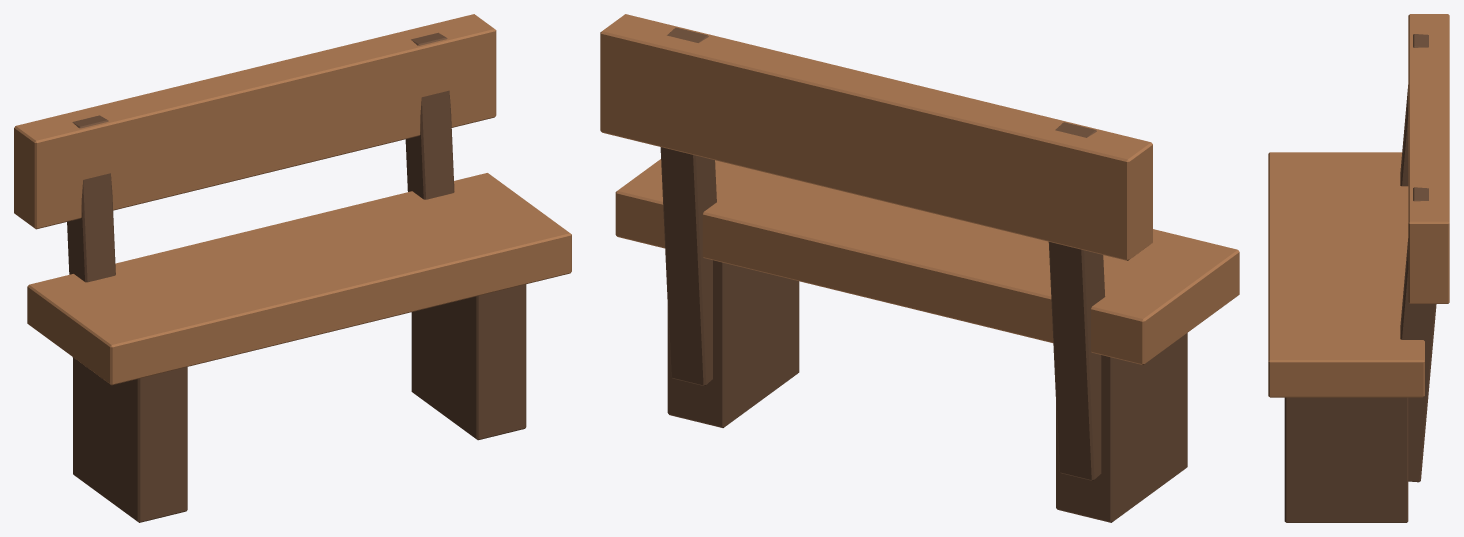
Rendered from wood_bench_backrest_01.glb.
3 views of the same model, side by side, from view 1: azimuth 30°, elevation 25°; view 2: azimuth 150°, elevation 25°; view 3: azimuth 270°, elevation 25° (orthographic). The views are drawn at different scales.
Visible parts, largest first — view 1: wood_bench_backrest_01; view 2: wood_bench_backrest_01; view 3: wood_bench_backrest_01.
Boxes of the visible parts, x1,y1,x2,y2 form: wood_bench_backrest_01: (14, 14, 571, 522); wood_bench_backrest_01: (600, 14, 1239, 522); wood_bench_backrest_01: (1268, 14, 1449, 522).
Bounding box in the file's own units: 1.2 × 0.8529 × 0.44.
